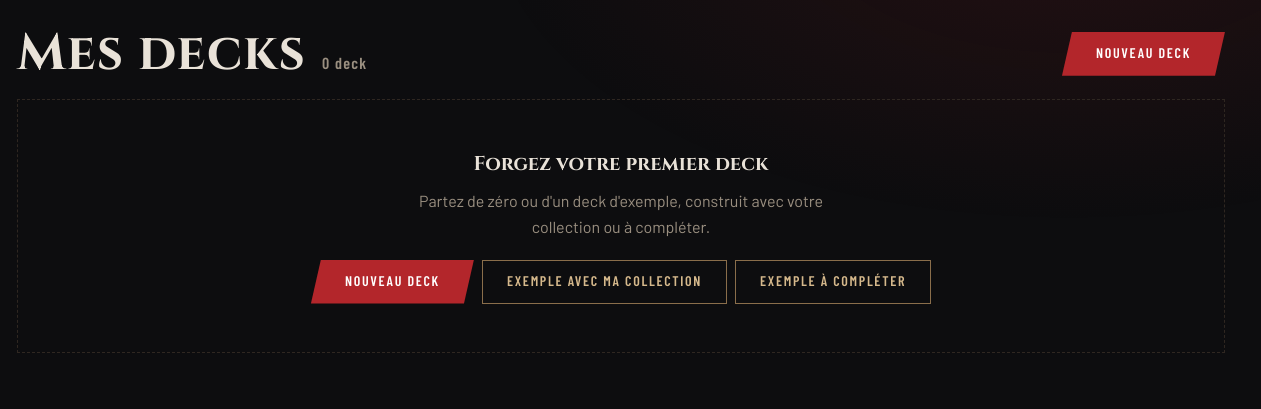
it: DecksView › exemple depuis l'état vide en échec : message visible, boutons réactivés
Click the button "Exemple avec ma collection": (605, 282) 482,260 -> 727,304
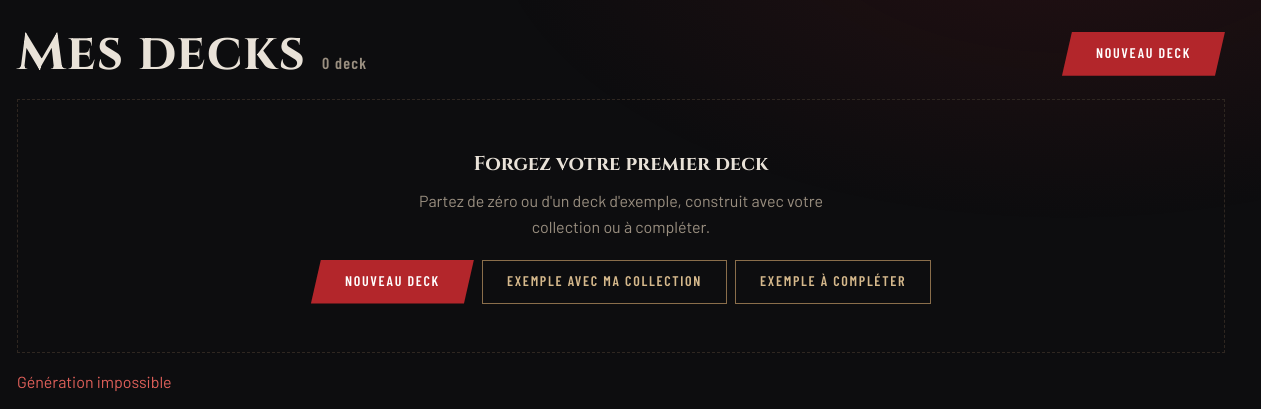
Now the message with class "mesdecks-error" reads "Génération impossible", box 17,372 -> 172,391
